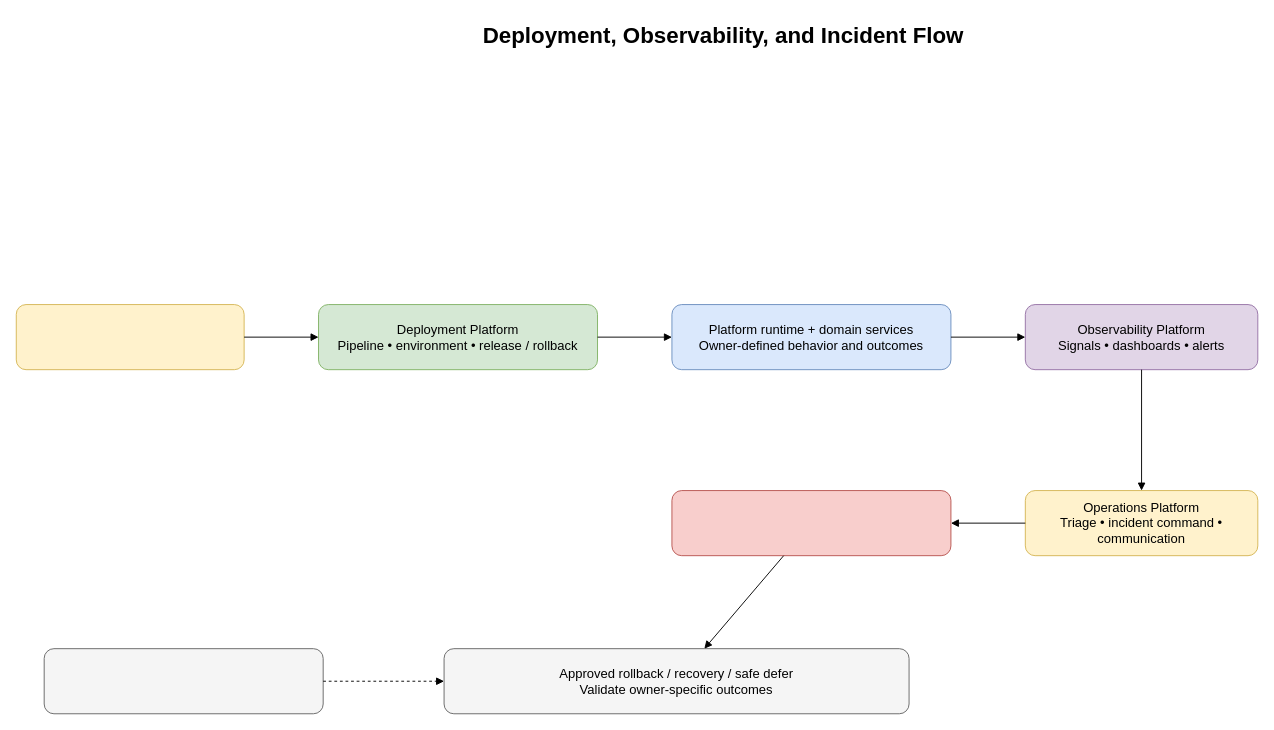
Some shapes in this 1274 by 730 pixel diagram are drawn without their labels. Here are the shapes that lost their labels. From the top down, the centre of each, then its label:
At point 129,337: "Approved change + readiness record".
At point 811,523: "Security • Data • Domain owners Containment • recovery criteria • reconciliation".
At point 183,681: "Testing Platform Assurance and release evidence".
